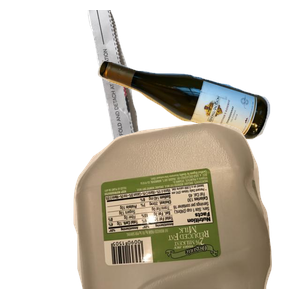glass: (95, 57, 300, 189)
paper: (85, 10, 224, 190)
plastic: (71, 120, 300, 300)
trash: (109, 175, 279, 300)
